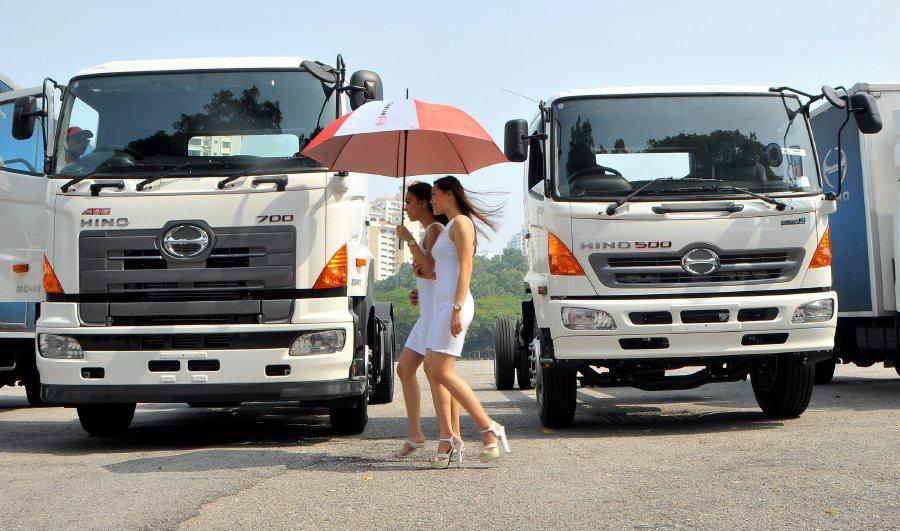Person: (425, 174, 545, 461), (392, 181, 462, 461)
Truck: (38, 59, 397, 450), (499, 86, 836, 424)
